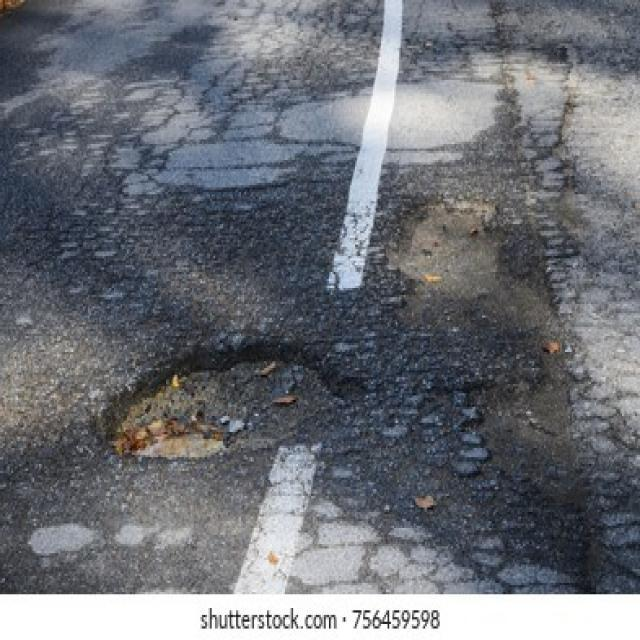Pothole: (98, 338, 338, 464), (458, 374, 598, 506), (387, 199, 505, 334)
